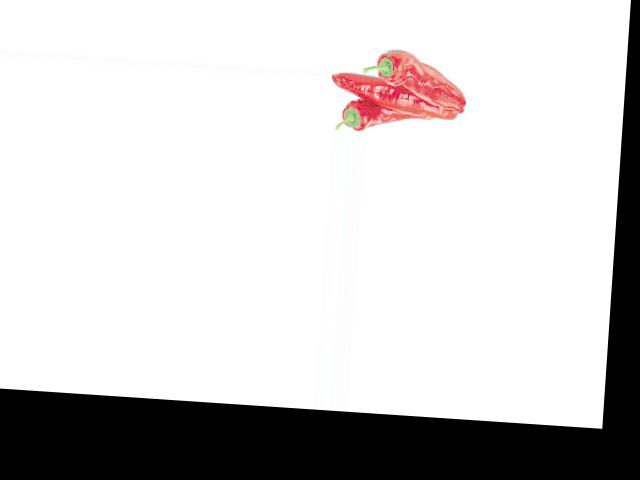bell_pepper: (358, 45, 470, 101)
